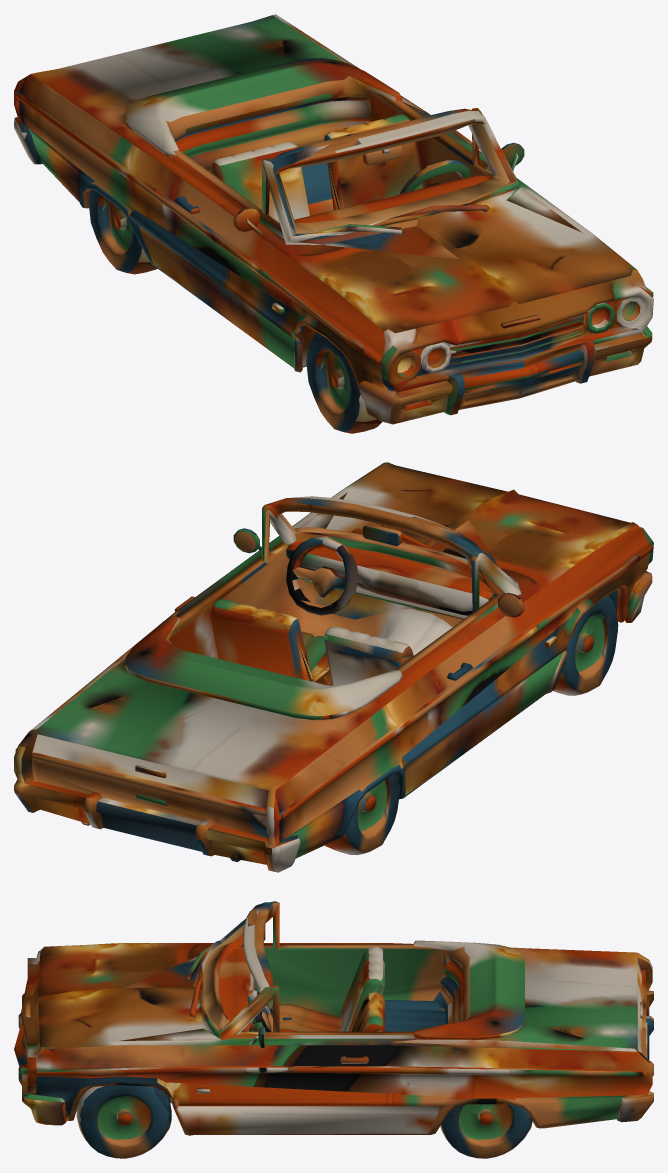
Rendered from CarModel.fbx.
3 renders of one model, top to bottom at view 1: azimuth 30°, elevation 25°; view 2: azimuth 150°, elevation 25°; view 3: azimuth 270°, elevation 25°, orthographic. The views are drawn at different scales.
Parts seen in each view (by area): view 1: texture_pbr_v128, texture_pbr_v128.004, texture_pbr_v128.005, texture_pbr_v128.002; view 2: texture_pbr_v128, texture_pbr_v128.004, texture_pbr_v128.002, texture_pbr_v128.005; view 3: texture_pbr_v128, texture_pbr_v128.003, texture_pbr_v128.001, texture_pbr_v128.002.
Boxes of the visible parts, box(x1,y1,x2,y2) form: texture_pbr_v128: box(14, 14, 653, 424); texture_pbr_v128.004: box(306, 332, 381, 433); texture_pbr_v128.005: box(88, 190, 157, 274); texture_pbr_v128.002: box(400, 160, 470, 193); texture_pbr_v128: box(14, 462, 653, 872); texture_pbr_v128.004: box(553, 595, 618, 695); texture_pbr_v128.002: box(286, 536, 358, 615); texture_pbr_v128.005: box(325, 774, 400, 854); texture_pbr_v128: box(14, 901, 653, 1135); texture_pbr_v128.003: box(76, 1085, 171, 1158); texture_pbr_v128.001: box(440, 1104, 532, 1158); texture_pbr_v128.002: box(247, 989, 272, 1031).
Size of the model in its own units: 82.21 by 57.61 by 190.
